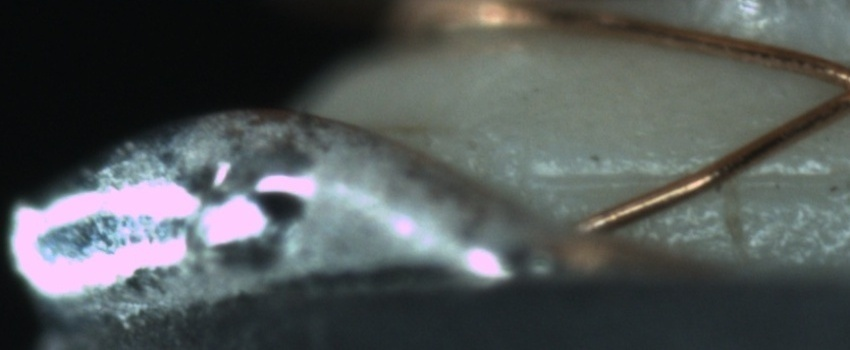DL: (535, 146, 850, 208)
